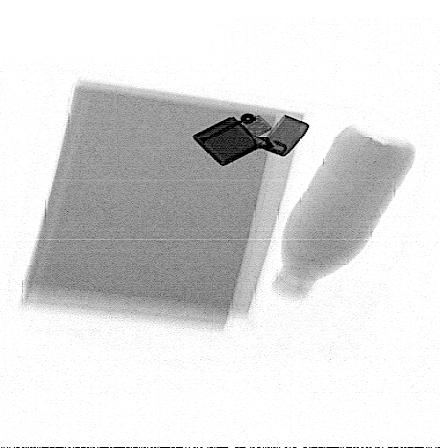Lighter: (191, 113, 309, 167)
